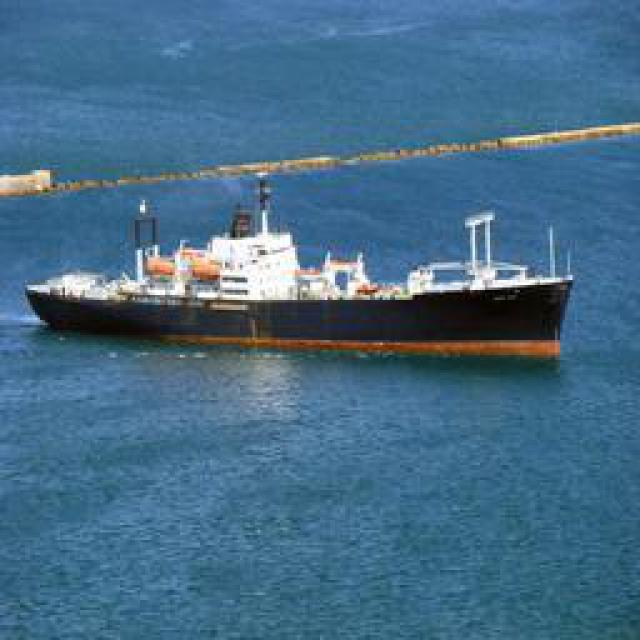Ship: (19, 196, 584, 356)
